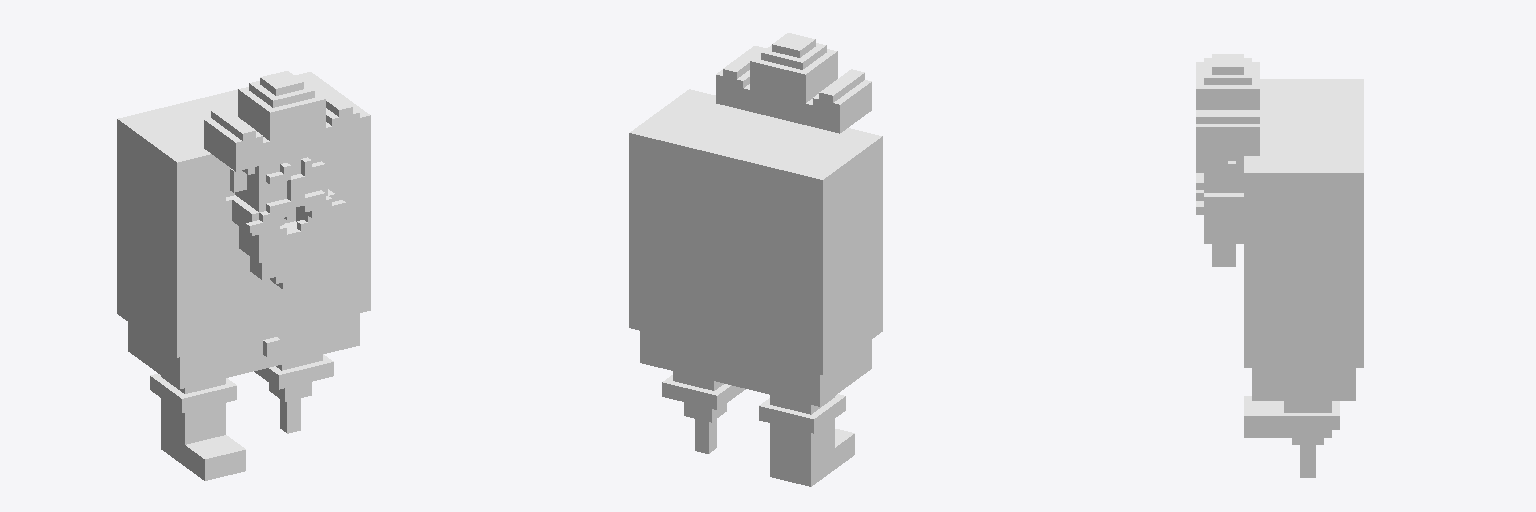
The model's file is pirata-2.obj.
3 renders of one model, left to right at view 1: azimuth 30°, elevation 25°; view 2: azimuth 150°, elevation 25°; view 3: azimuth 270°, elevation 25°, orthographic.
Visible parts, largest first — view 1: object 1; view 2: object 1; view 3: object 1.
Part boxes in pixels (x1,y1,x2,y2): object 1: (117, 71, 370, 480); object 1: (629, 33, 882, 486); object 1: (1196, 54, 1363, 477).
Bounding box in the file's own units: 2.8 × 5.4 × 2.1.